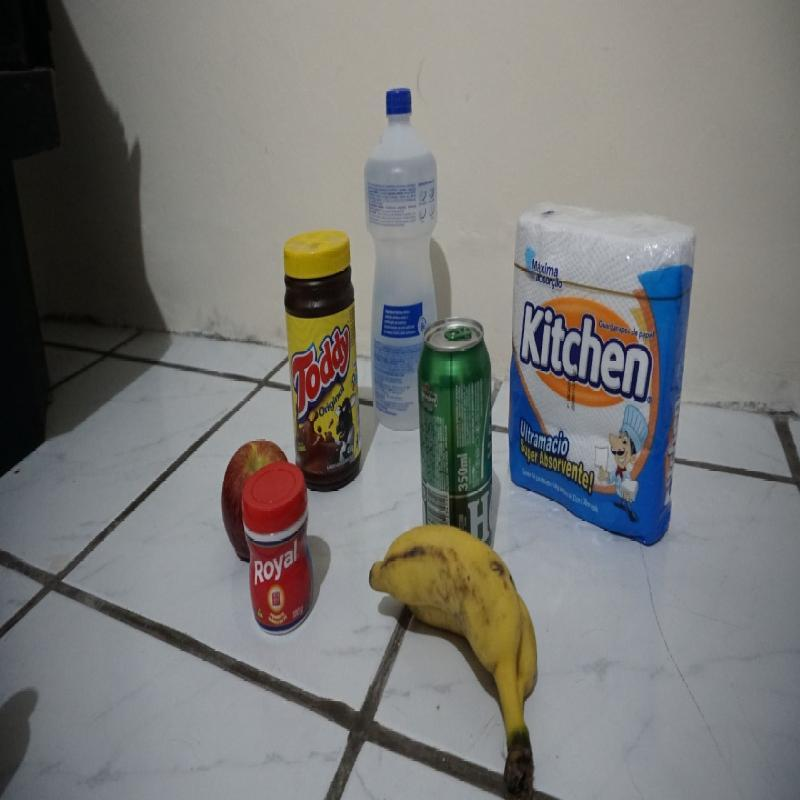Alcohol Bottle: (365, 90, 439, 430)
Apple: (223, 439, 288, 564)
Banana: (367, 513, 549, 796)
Beer can: (417, 315, 494, 554)
Chocolate Powder: (284, 231, 363, 492)
Napkin: (512, 200, 697, 546)
Yeast: (243, 462, 315, 641)
